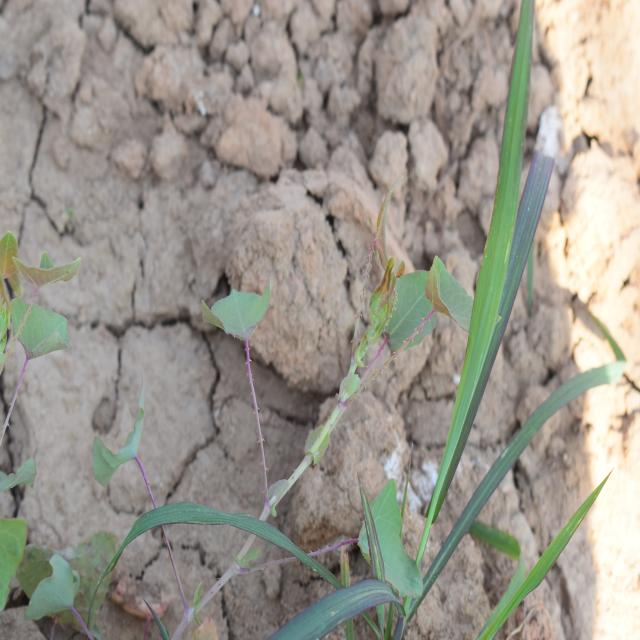Asiatic_Smartweed: (317, 175, 480, 399), (352, 455, 430, 613), (192, 263, 280, 351)
